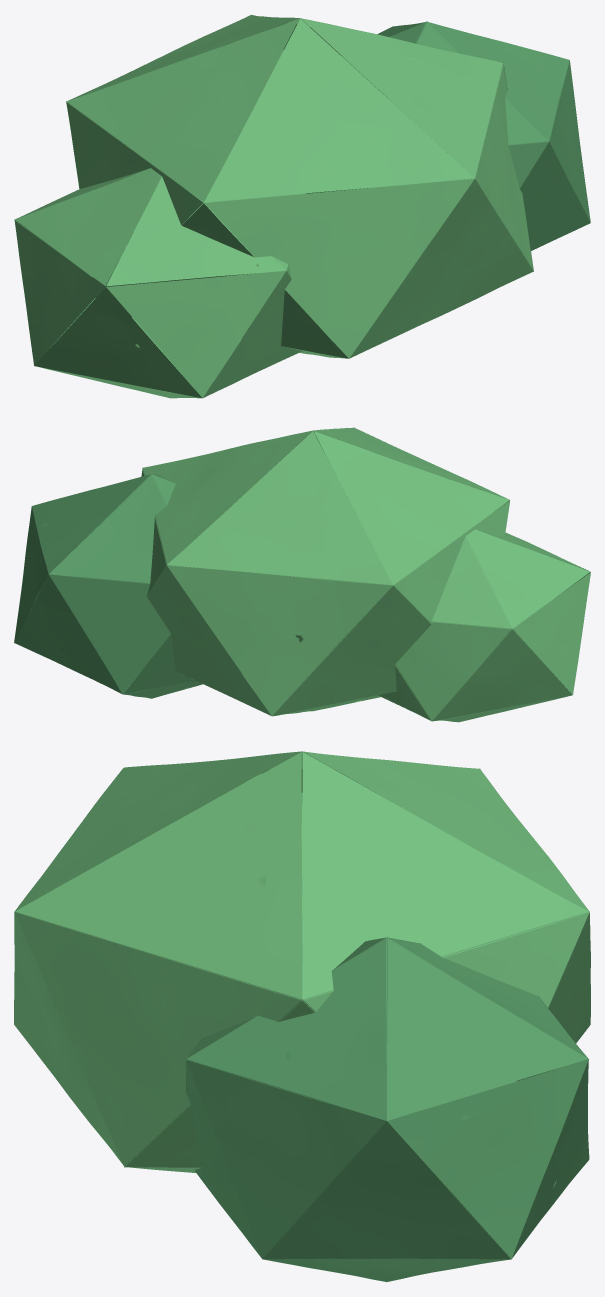
Rendered from bush.glb.
3 renders of one model, top to bottom at view 1: azimuth 30°, elevation 25°; view 2: azimuth 150°, elevation 25°; view 3: azimuth 270°, elevation 25°, orthographic. The views are drawn at different scales.
Parts seen in each view (by area): view 1: Bush; view 2: Bush; view 3: Bush.
Boxes of the visible parts, x1,y1,x2,y2 form: Bush: [14, 14, 590, 398]; Bush: [14, 427, 590, 722]; Bush: [14, 751, 590, 1281].
Bounding box in the file's own units: 1.55 × 0.8408 × 1.02.
